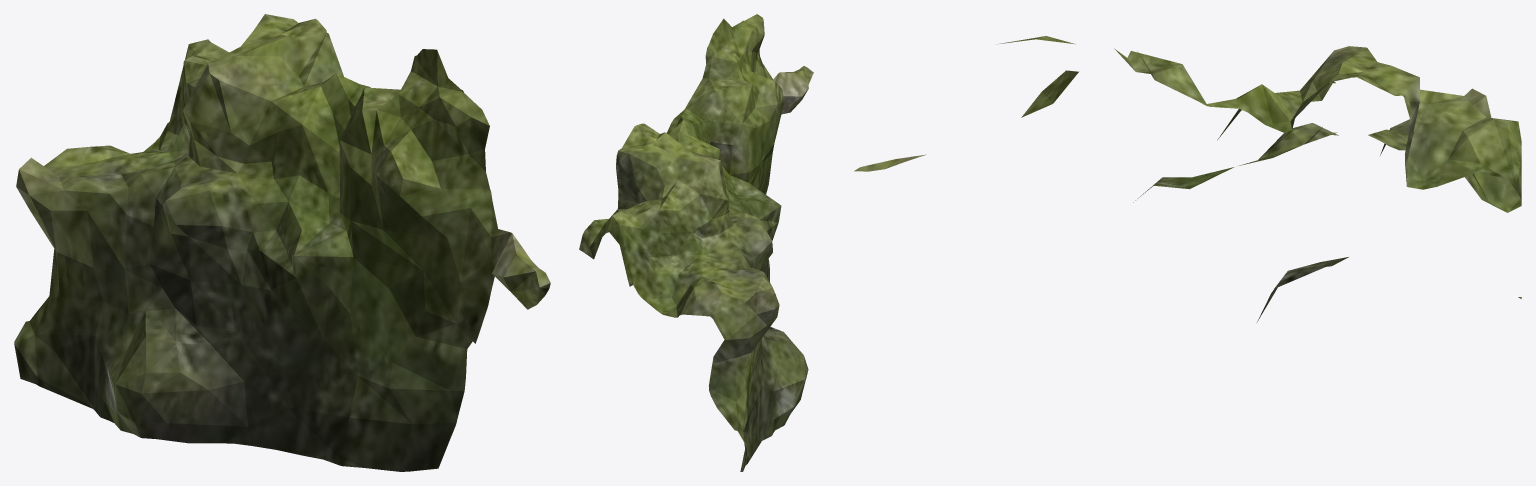
The picture shows the model from 3 angles, left to right: view 1: azimuth 30°, elevation 25°; view 2: azimuth 150°, elevation 25°; view 3: azimuth 270°, elevation 25°; orthographic projection. The views are drawn at different scales.
Bounding box in the file's own units: 2.07 × 3.38 × 4.54.
1 material, 1 textured.
